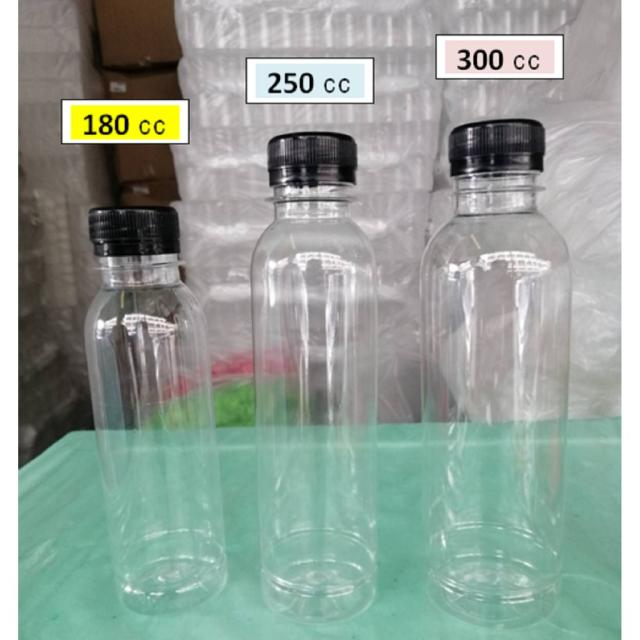bottle: (421, 118, 572, 624), (252, 132, 379, 624), (82, 205, 230, 616)
